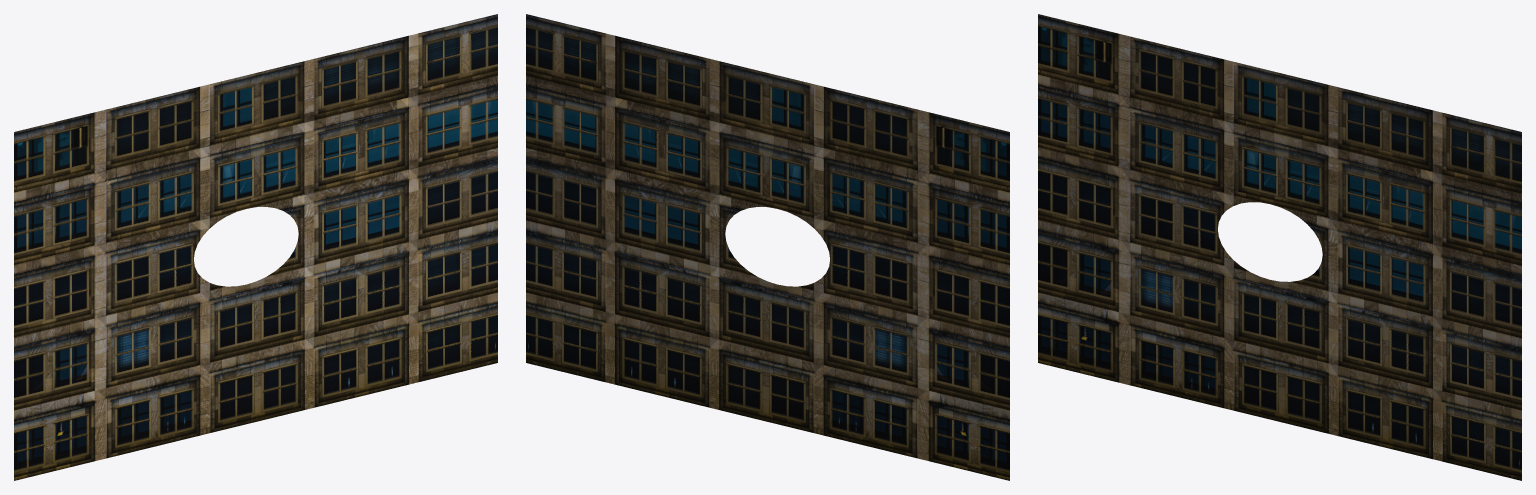
Rendered from pared.glb.
3 renders of one model, left to right at view 1: azimuth 30°, elevation 25°; view 2: azimuth 150°, elevation 25°; view 3: azimuth 330°, elevation 25°, orthographic.
Visible parts, largest first — view 1: Plane.001; view 2: Plane.001; view 3: Plane.001.
Part boxes in pixels (x1,y1,x2,y2): Plane.001: (14, 14, 497, 480); Plane.001: (526, 14, 1009, 480); Plane.001: (1038, 14, 1521, 480).
Size of the model in its own units: 539 by 371 by 3.13e-05.
Materials: 1 (1 with a texture image).
